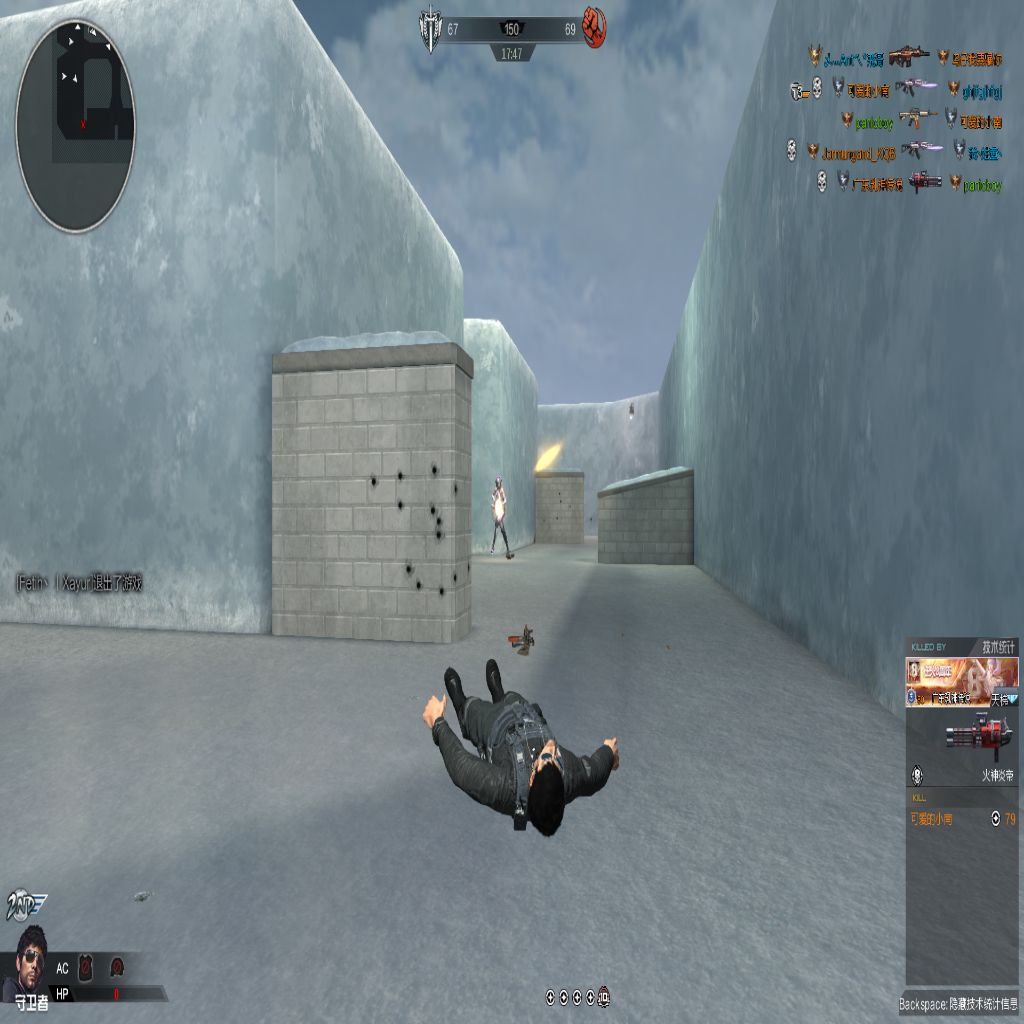tt: (489, 476, 513, 554)
